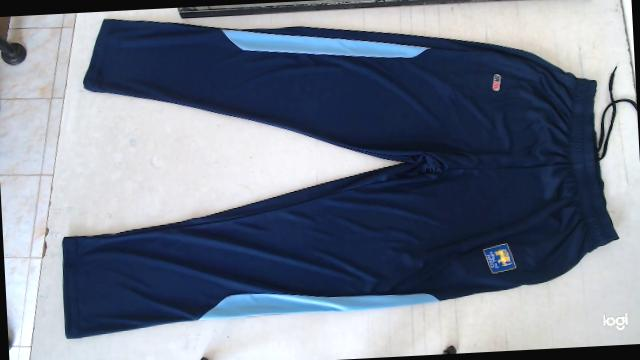new-garment: (62, 19, 618, 337)
